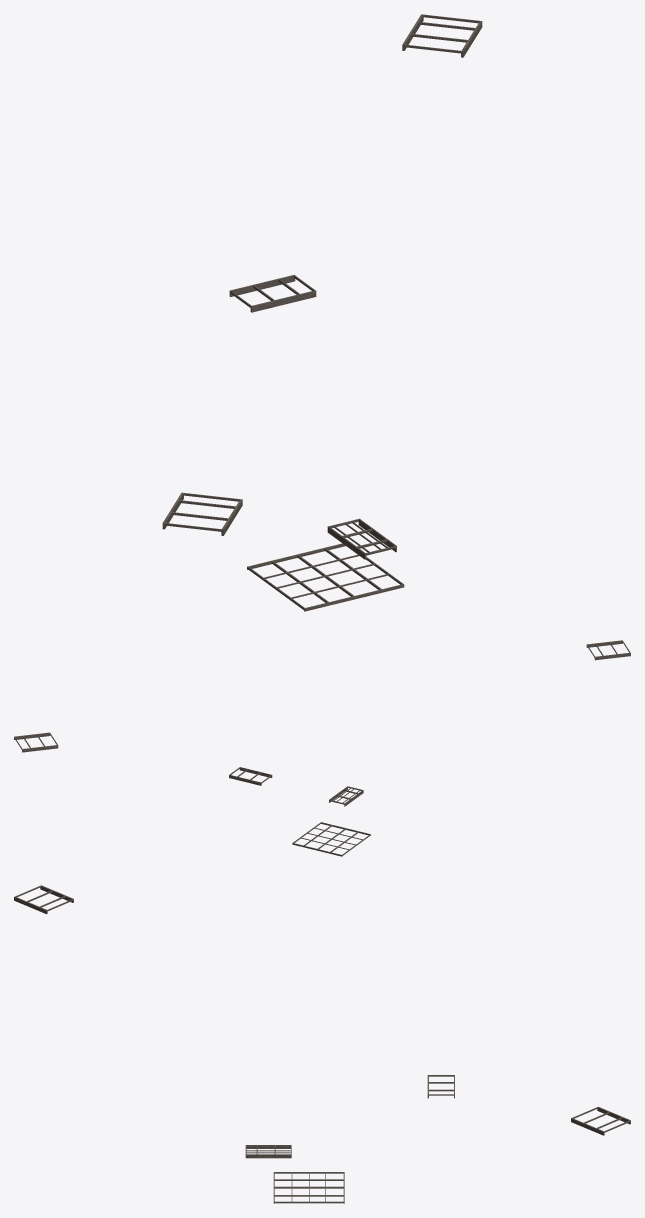
Rendered from SM_Republic_08_01.fbx.
3 renders of one model, top to bottom at view 1: azimuth 30°, elevation 25°; view 2: azimuth 150°, elevation 25°; view 3: azimuth 270°, elevation 25°, orthographic. The views are drawn at different scales.
Visible parts, largest first — view 1: SM_Republic_08_01; view 2: SM_Republic_08_01; view 3: SM_Republic_08_01.
Part boxes in pixels (x1,y1,x2,y2): SM_Republic_08_01: (162, 14, 482, 611); SM_Republic_08_01: (14, 640, 630, 856); SM_Republic_08_01: (14, 885, 630, 1203).
Bounding box in the file's own units: 7083 × 2679 × 7920.
